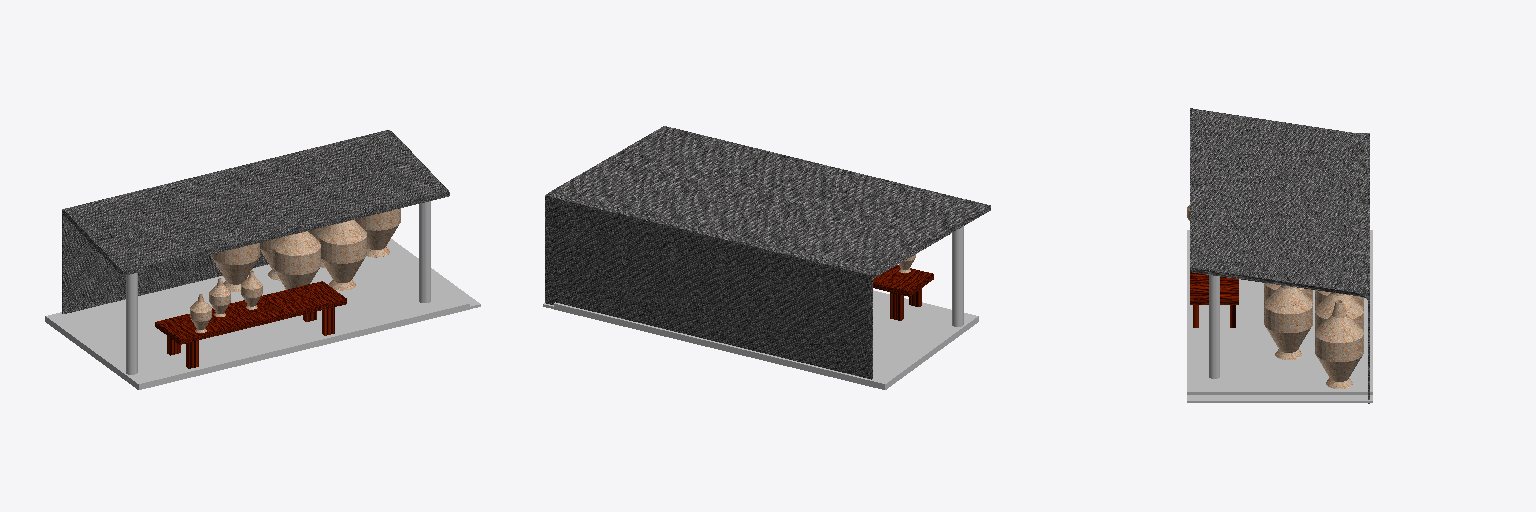
The picture shows the model from 3 angles: view 1: azimuth 30°, elevation 25°; view 2: azimuth 150°, elevation 25°; view 3: azimuth 270°, elevation 25°; orthographic projection.
Parts seen in each view (by area): view 1: Cube.001_Cube.002, Cube.002_Cube, Cylinder.001, Cube_Cube.001, Cylinder, Cylinder.002; view 2: Cube.001_Cube.002, Cube.002_Cube, Cube_Cube.001, Cylinder; view 3: Cube.001_Cube.002, Cube.002_Cube, Cylinder.001, Cube_Cube.001, Cylinder.
Part boxes in pixels (x1,y1,x2,y2): Cube.001_Cube.002: (62,130,449,313); Cube.002_Cube: (45,239,480,389); Cylinder.001: (211,208,400,291); Cube_Cube.001: (155,281,346,368); Cylinder: (126,201,430,374); Cylinder.002: (190,270,262,332); Cube.001_Cube.002: (545,126,990,379); Cube.002_Cube: (543,290,978,389); Cube_Cube.001: (873,265,933,320); Cylinder: (952,226,963,326); Cube.001_Cube.002: (1190,108,1369,403); Cube.002_Cube: (1187,230,1372,402); Cylinder.001: (1264,283,1363,388); Cube_Cube.001: (1190,272,1238,327); Cylinder: (1209,275,1219,378).
Bounding box in the file's own units: 16.68 × 5.45 × 7.55.
Materials: 4 (3 with a texture image).